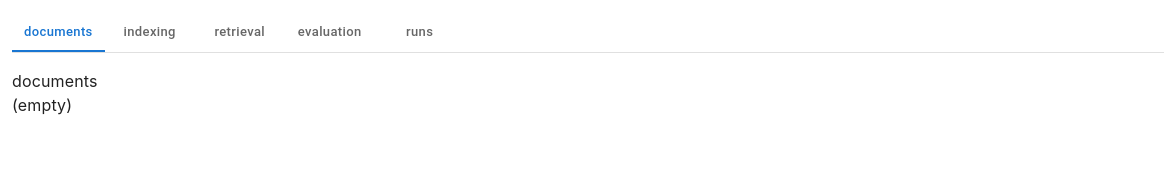
Phase 7 workspace tab contracts › rag tabs persist in the URL
Expected: the text with test id "tab-value" reads "documents", [12, 71, 98, 91]
Click the tab "retrieval" at point(240, 32), box [195, 12, 285, 52]
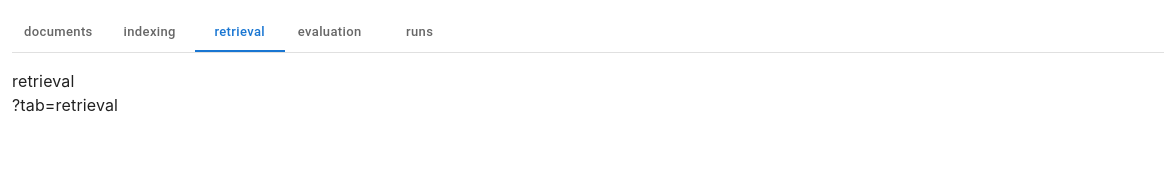
Expected: the text with test id "tab-value" reads "retrieval", [12, 71, 74, 91]
